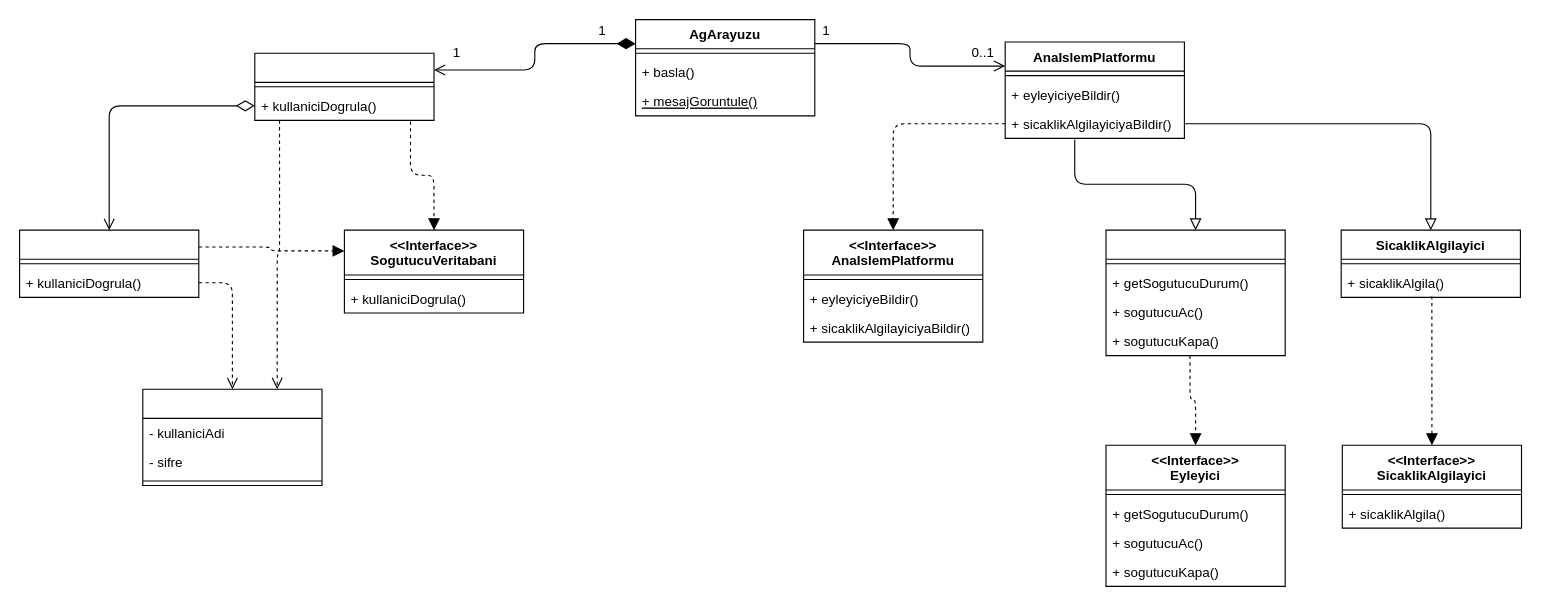
Some shapes in this 1541 by 609 pixel diagram are drawn without their labels. The shapes that lost their labels are listed below. From the top down, each one's box as (x1, y1, x2, y2) in pixels, then its label:
(254, 52, 434, 120): SogutucuVeritabani
(18, 229, 199, 297): VeritabaniSurucusu
(1105, 229, 1285, 356): Eyleyici
(142, 388, 322, 486): InternetKullanicisi
